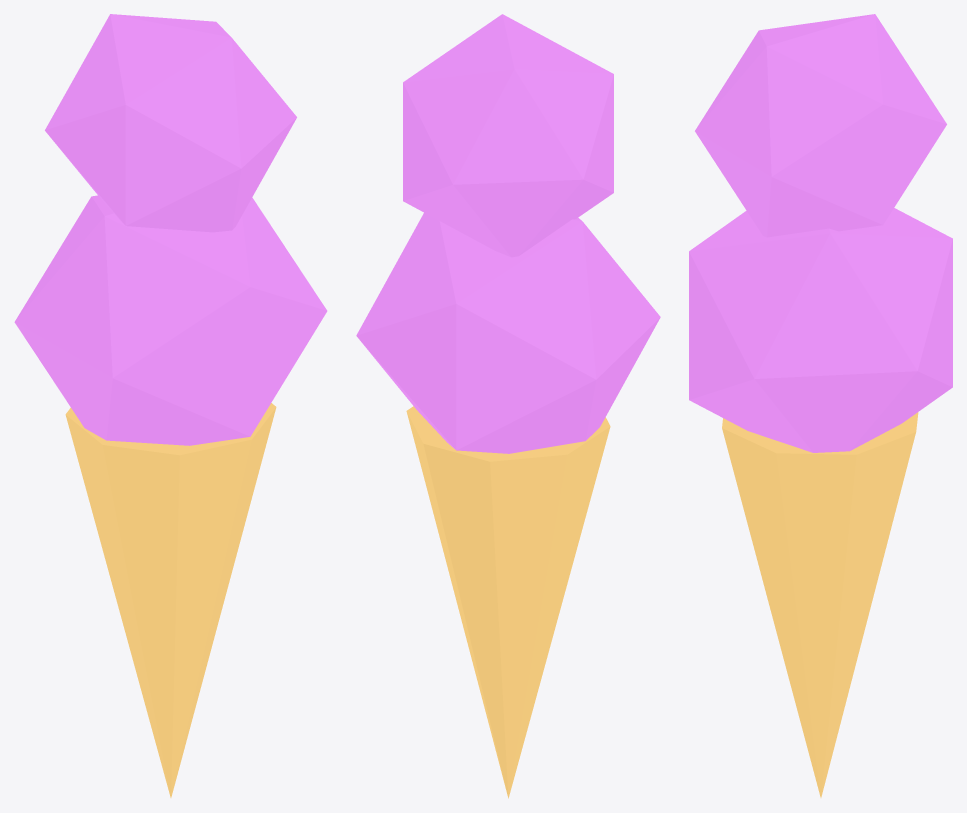
File: 001_icecream.gltf
3 views of the same model, side by side, from view 1: azimuth 30°, elevation 25°; view 2: azimuth 150°, elevation 25°; view 3: azimuth 270°, elevation 25° (orthographic). The views are drawn at different scales.
Parts seen in each view (by area): view 1: Icosphere.001; view 2: Icosphere.001; view 3: Icosphere.001.
Boxes of the visible parts, x1,y1,x2,y2 form: Icosphere.001: (14, 14, 327, 797); Icosphere.001: (356, 14, 660, 798); Icosphere.001: (689, 14, 952, 797).
Size of the model in its own units: 1.63 by 4.9 by 1.53.
